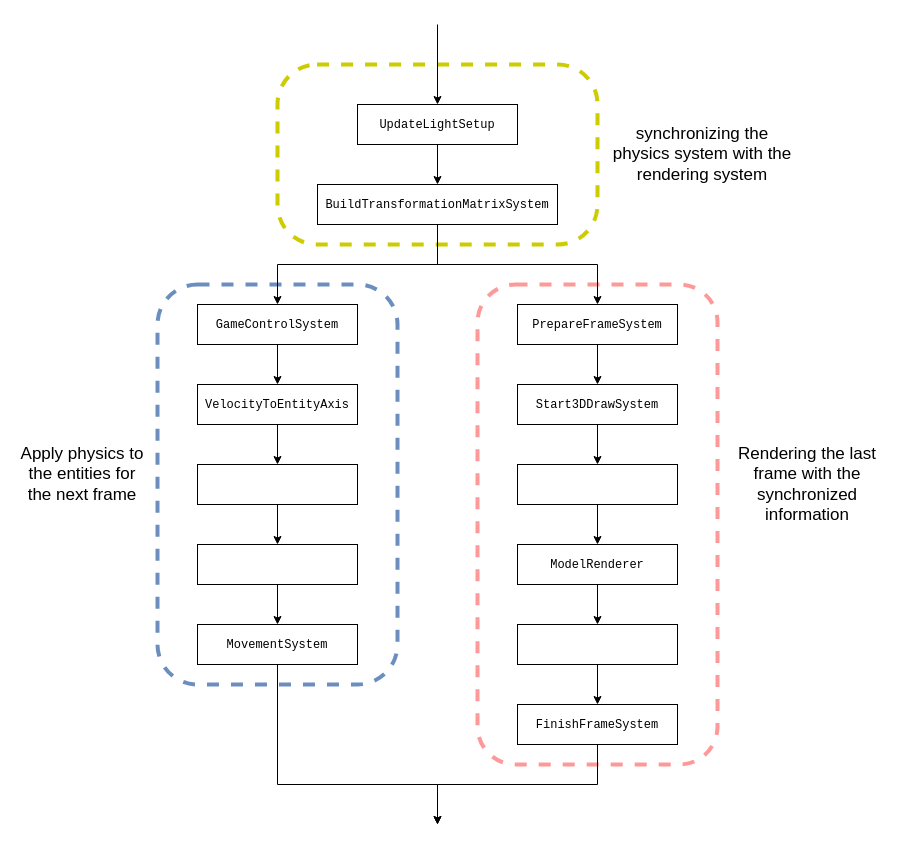
The diagram is 914 pixels wide and 850 high, and some of its shapes have lost their labels. Each missing label, with the box of its shape:
CollisionSystem: (196, 544, 358, 584)
GravitySystem: (196, 464, 358, 504)
StandardRenderSystem: (516, 464, 678, 504)
Stop3DDrawSystem: (516, 624, 678, 664)
